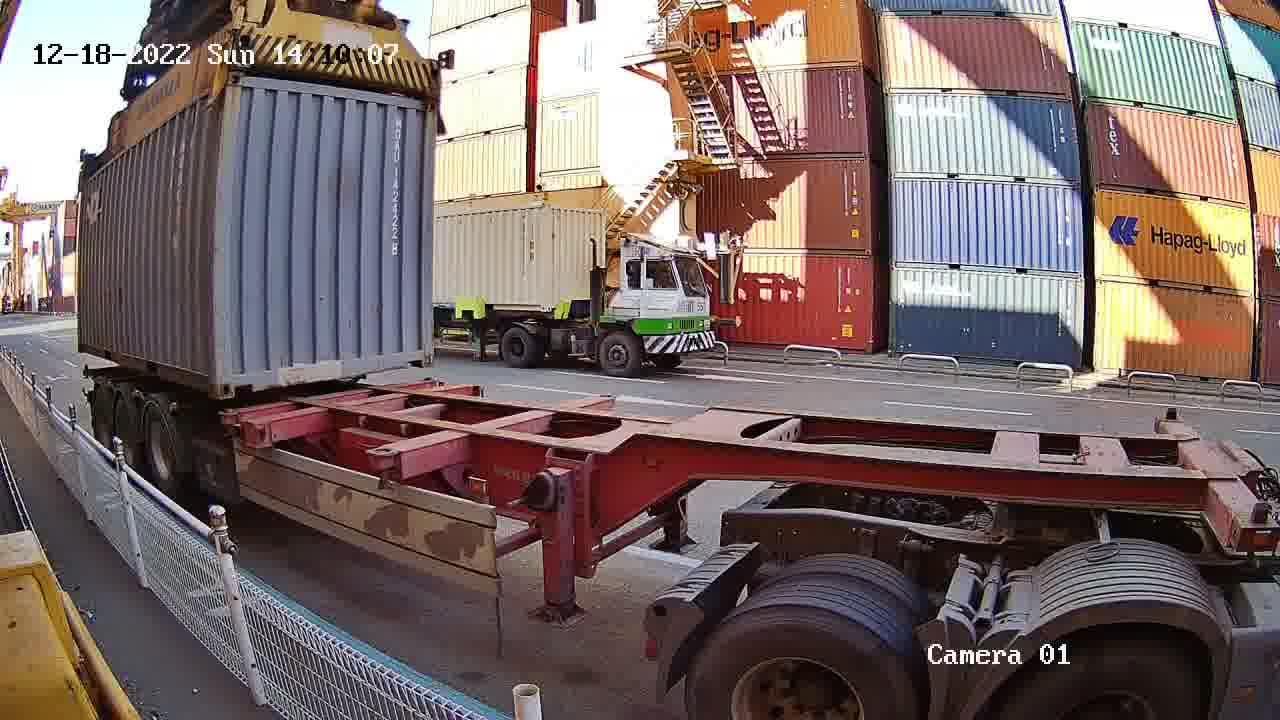Chassis: (244, 383, 479, 442), (220, 377, 441, 420)
Cone: (217, 404, 239, 434), (243, 422, 263, 449)
Hole_L: (214, 357, 254, 399)
Hole_R: (401, 333, 434, 367)
Tire: (142, 406, 175, 484), (114, 399, 139, 462), (92, 387, 112, 447)
